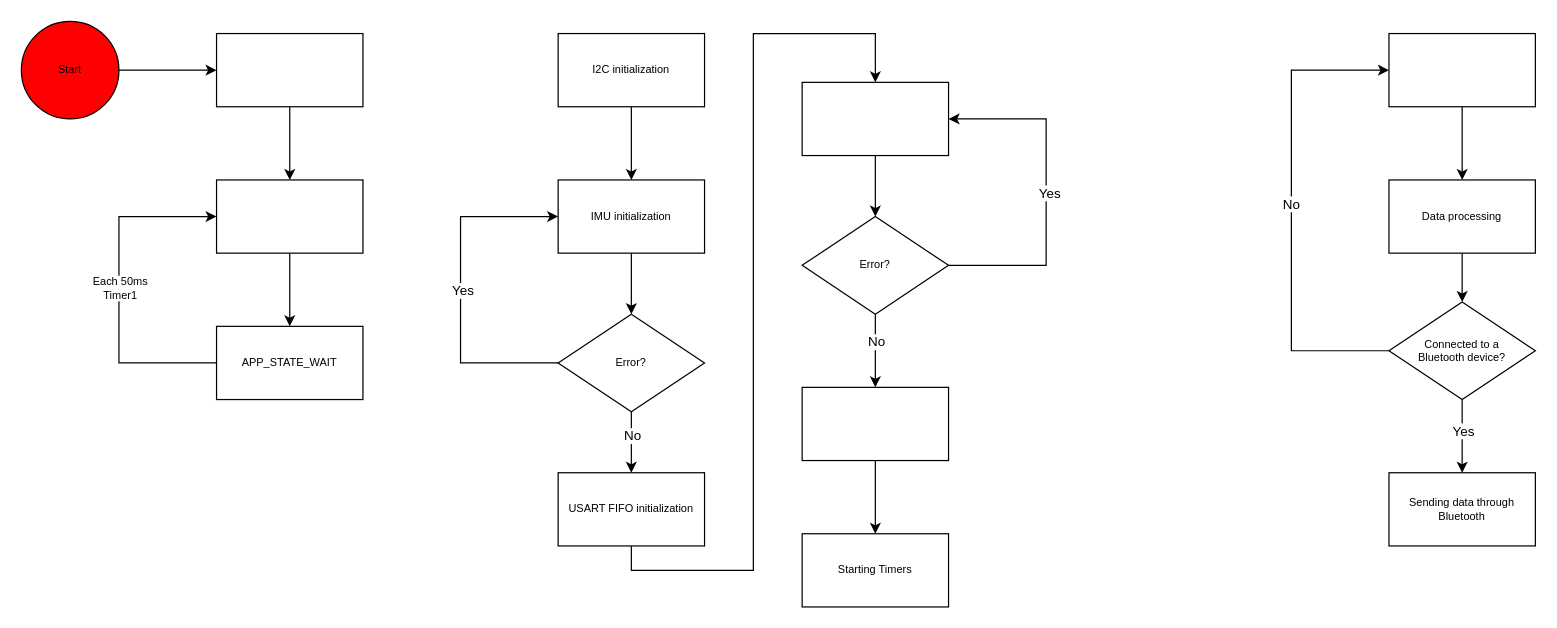
The diagram is 1557 pixels wide and 628 high, and some of its shapes have lost their labels. The shapes that lost their labels are listed below. From the top down, each one's centre as x and y in pixels, then its label:
[289,69]: APP_STATE_INIT
[1461,69]: Reading sensors
[875,118]: Bluetooth module initialization
[289,216]: APP_STATE_SERVICE
[875,423]: ADC initialization
